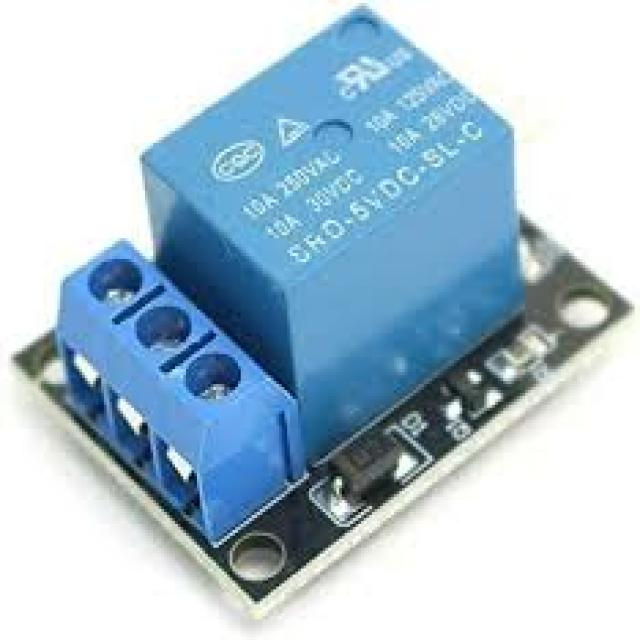Relay: (8, 0, 626, 630)
